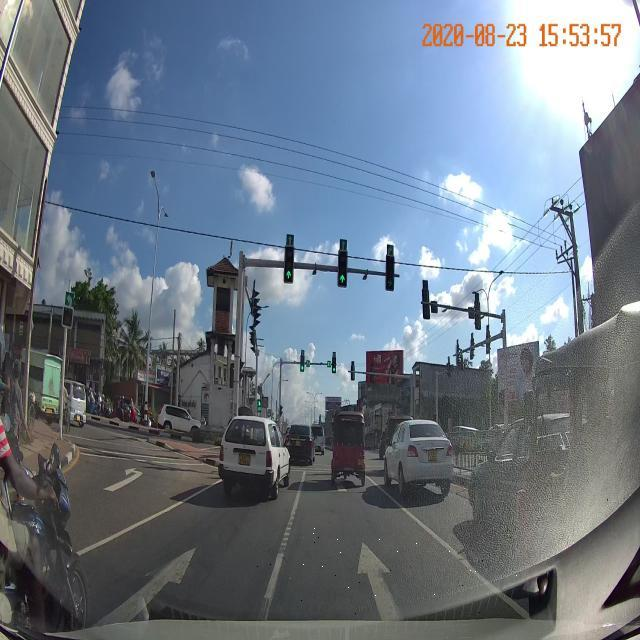forward: (257, 526, 530, 615)
